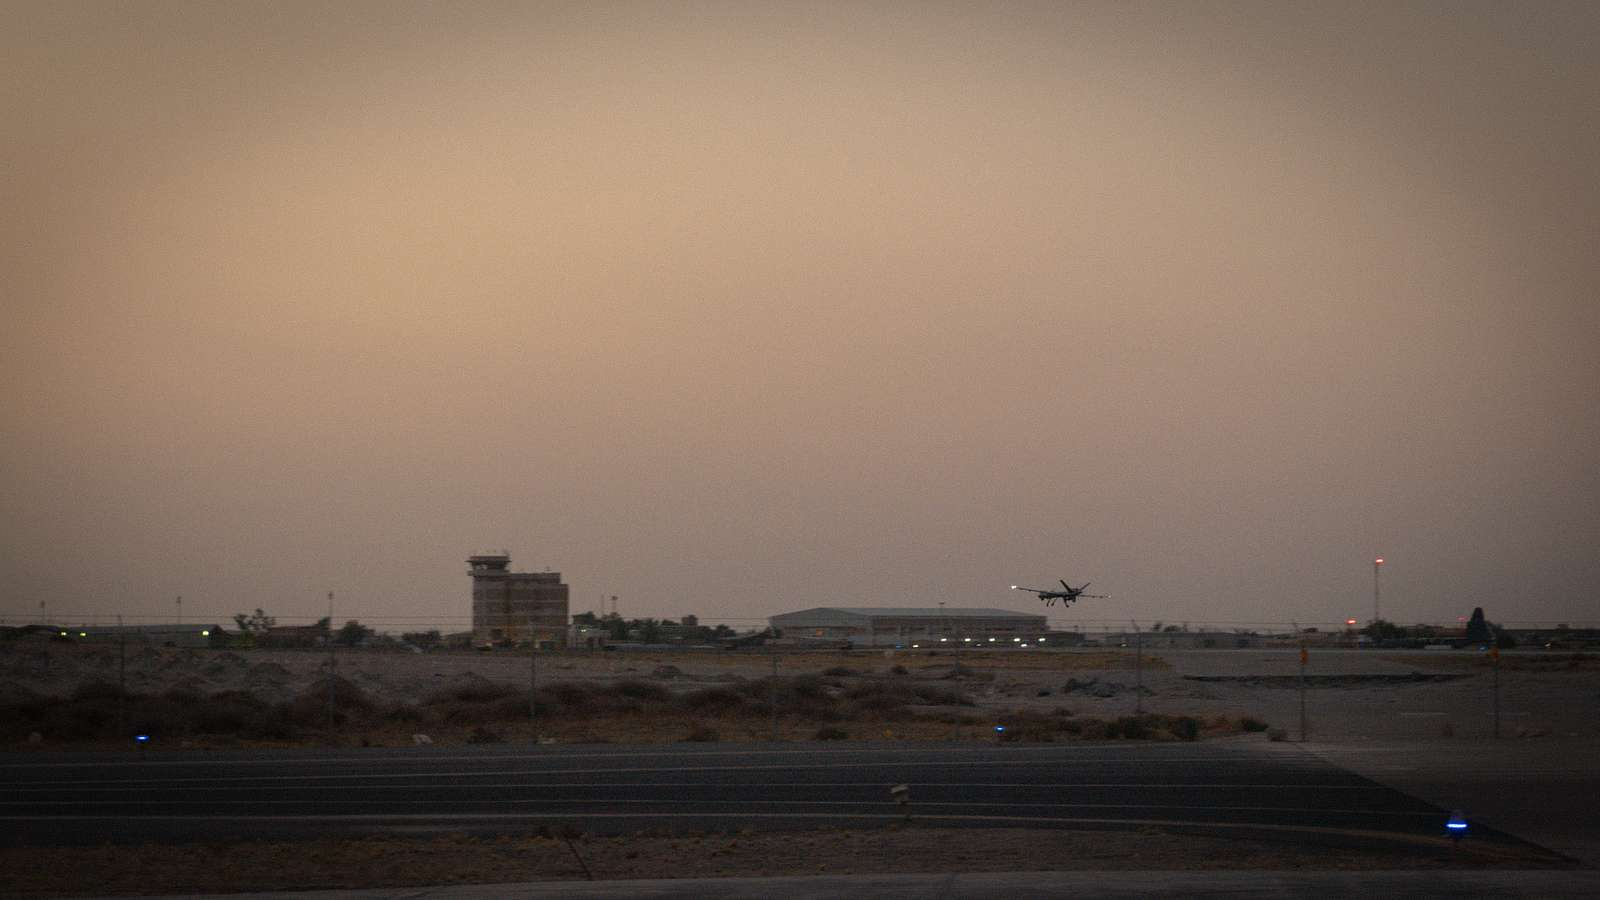airplane: (1010, 579, 1112, 609)
